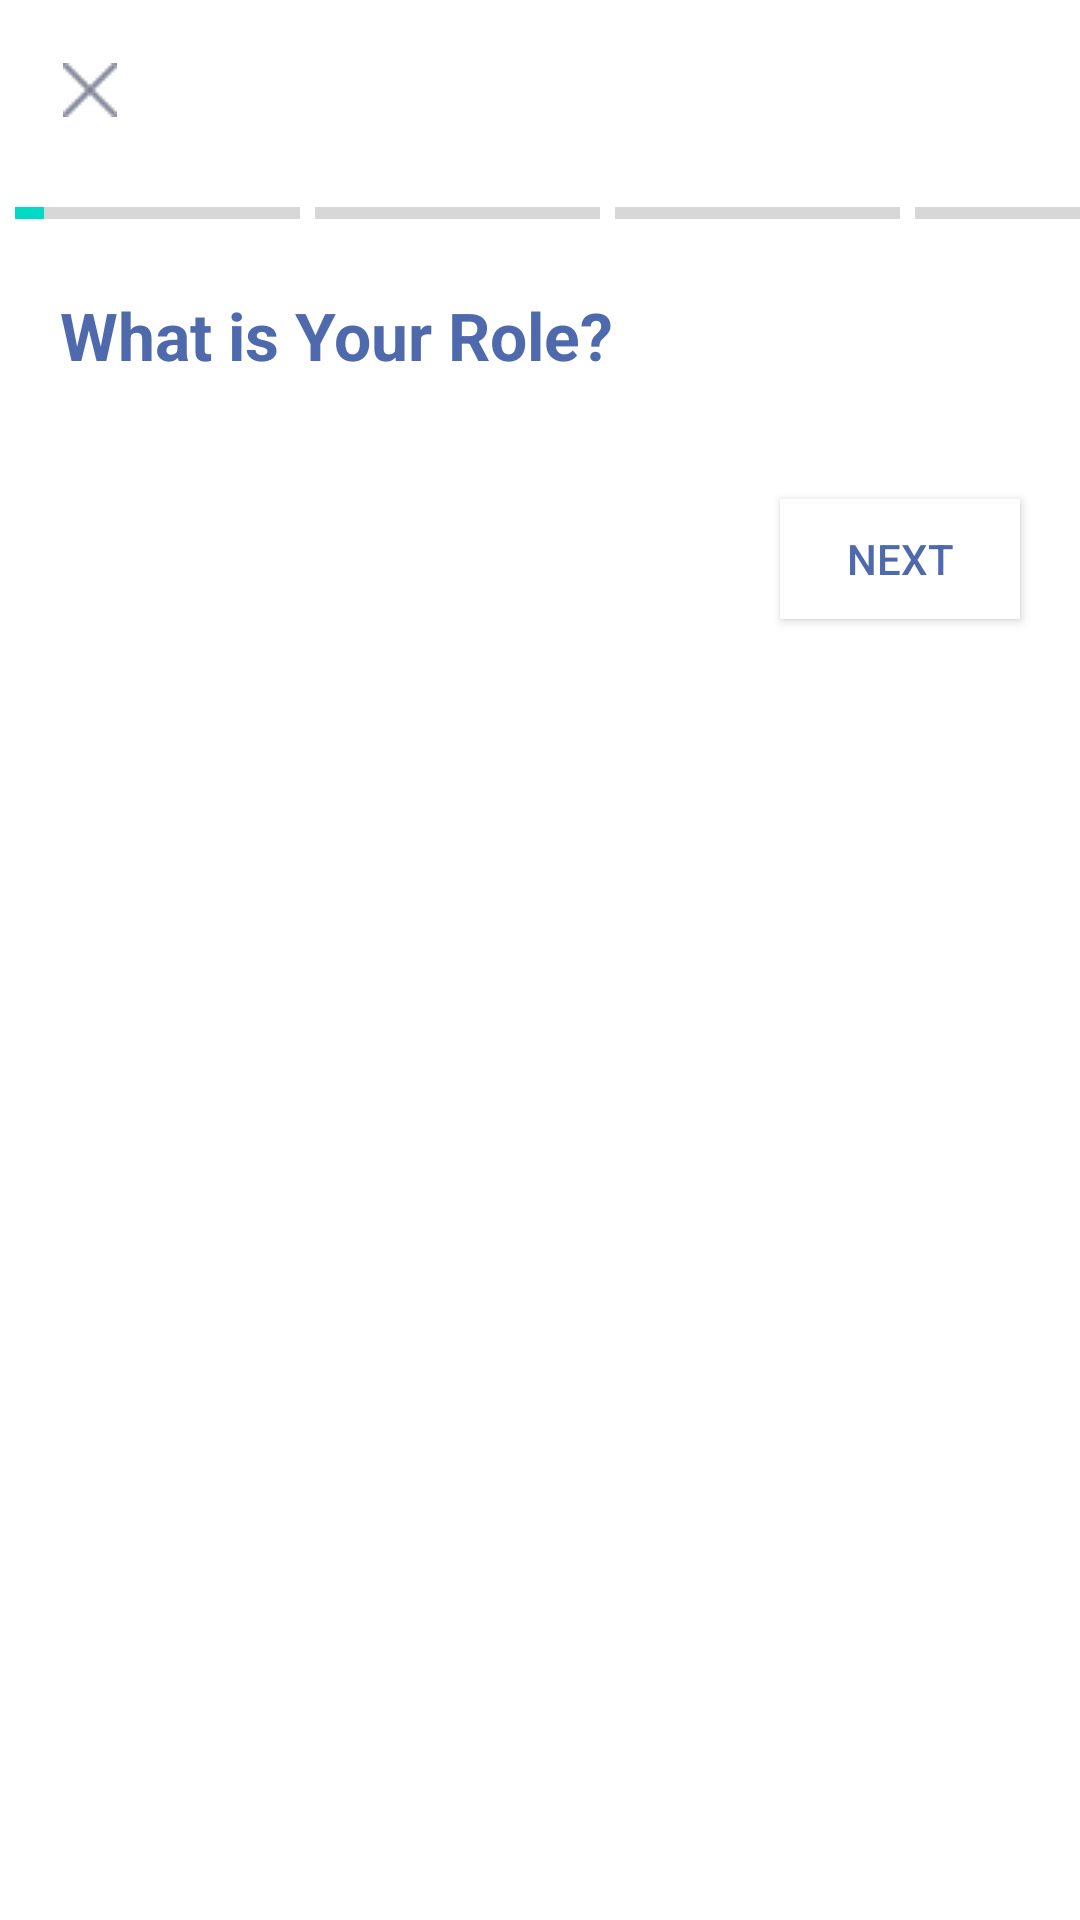

Icons on this 1080 × 1920 Android screen, each with its box as region(x1, y1, x2, y2):
close: region(63, 63, 117, 117)
